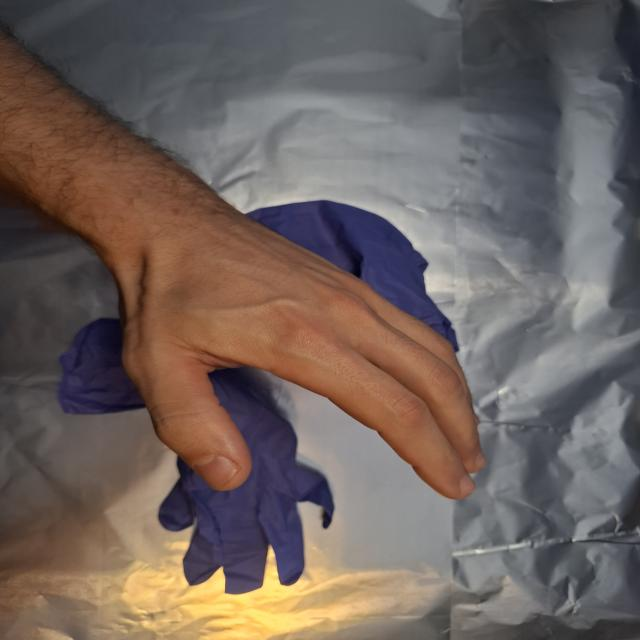glove_off: (110, 221, 491, 502)
